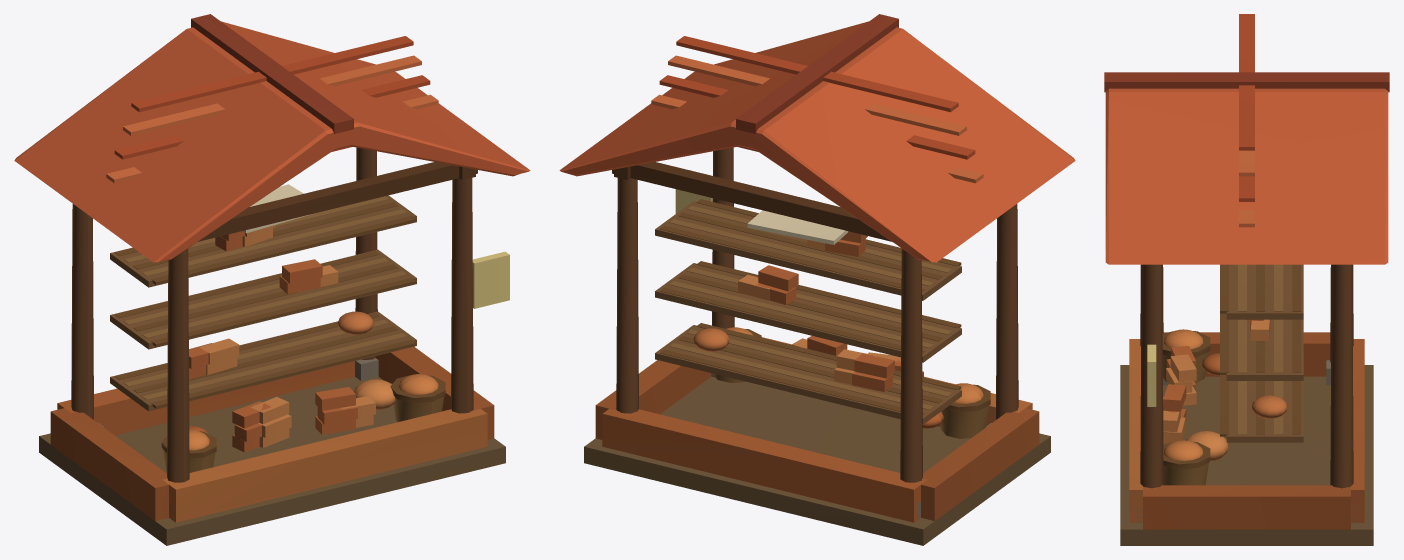
The model's file is clay-storage-full.glb.
3 views of the same model, side by side, from view 1: azimuth 30°, elevation 25°; view 2: azimuth 150°, elevation 25°; view 3: azimuth 270°, elevation 25° (orthographic).
Parts seen in each view (by area): view 1: drying-roof, yard-deck, dwarf-wall-front, dwarf-wall-left, beam-front, slat-shelf-1, post-3, dwarf-wall-back, post-2, slat-shelf-0, post-0, roof-ridge (+32 smaller); view 2: drying-roof, yard-deck, dwarf-wall-back, slat-shelf-1, dwarf-wall-left, slat-shelf-2, slat-shelf-0, beam-back, post-1, post-0, post-2, roof-ridge (+26 smaller); view 3: drying-roof, yard-deck, dwarf-wall-right, post-1, roof-ridge, post-3, slat-shelf-2, slat-shelf-1, slat-shelf-0, dwarf-wall-back, dwarf-wall-front, roof-tile-row-4 (+28 smaller).
Part boxes in pixels (x1,y1,x2,y2): drying-roof: (14,21,530,262); yard-deck: (39,376,505,545); dwarf-wall-front: (162,409,487,522); dwarf-wall-left: (50,408,168,520); beam-front: (198,162,477,241); slat-shelf-1: (110,249,416,349); post-3: (451,178,473,413); dwarf-wall-back: (57,361,354,435); post-2: (167,248,189,482); slat-shelf-0: (110,311,416,411); post-0: (71,204,93,419); roof-ridge: (191,14,353,133); drying-roof: (559,21,1075,262); yard-deck: (584,376,1050,545); dwarf-wall-back: (602,409,927,522); slat-shelf-1: (655,263,961,362); dwarf-wall-left: (921,408,1039,520); slat-shelf-2: (655,201,961,300); slat-shelf-0: (655,325,961,424); beam-back: (612,162,891,241); post-1: (616,178,638,413); post-0: (900,248,922,482); post-2: (996,204,1018,419); roof-ridge: (736,14,898,133); drying-roof: (1105,88,1388,264); yard-deck: (1120,365,1373,545); dwarf-wall-right: (1143,485,1350,529); post-1: (1330,264,1353,488); roof-ridge: (1104,72,1389,92); post-3: (1140,264,1163,488); slat-shelf-2: (1226,264,1303,319); slat-shelf-1: (1226,319,1303,380); slat-shelf-0: (1226,381,1303,442); dwarf-wall-back: (1339,339,1364,522); dwarf-wall-front: (1129,339,1155,522); roof-tile-row-4: (1239,14,1254,150).
Size of the model in its own units: 1.91 by 1.88 by 1.26.
